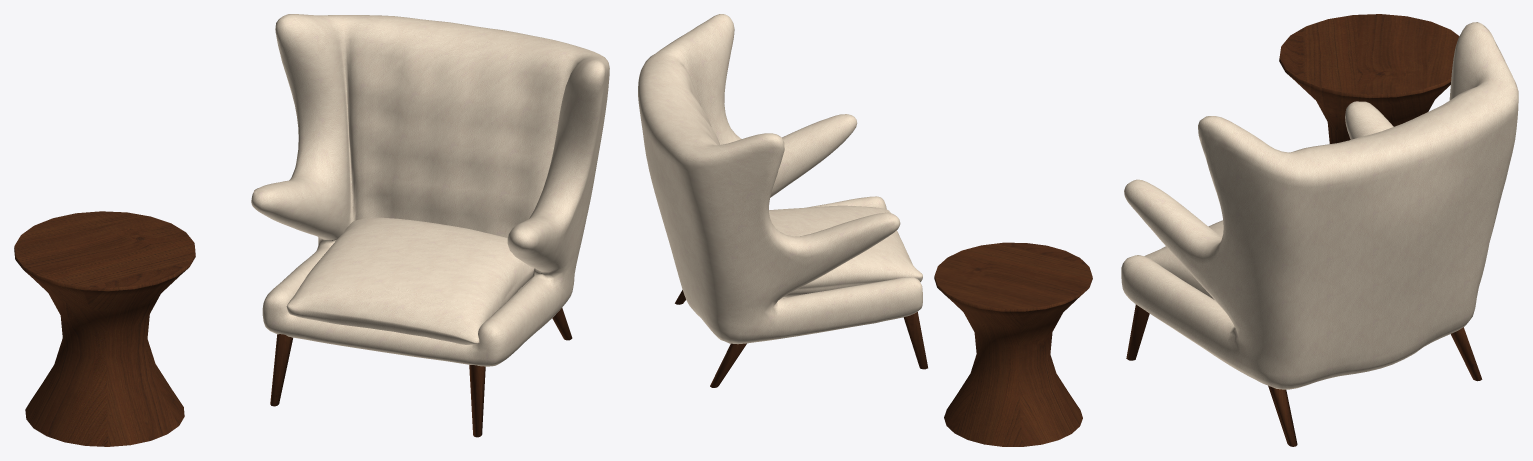
Rendered from xiaoshafa.fbx.
3 renders of one model, left to right at view 1: azimuth 30°, elevation 25°; view 2: azimuth 150°, elevation 25°; view 3: azimuth 270°, elevation 25°, orthographic. The views are drawn at different scales.
Visible parts, largest first — view 1: xiaoshafa; view 2: xiaoshafa; view 3: xiaoshafa.
Boxes of the visible parts, x1,y1,x2,y2 form: xiaoshafa: (14,14,609,446); xiaoshafa: (638,14,1092,446); xiaoshafa: (1121,14,1518,446).
Bounding box in the file's own units: 194 × 106 × 118.
